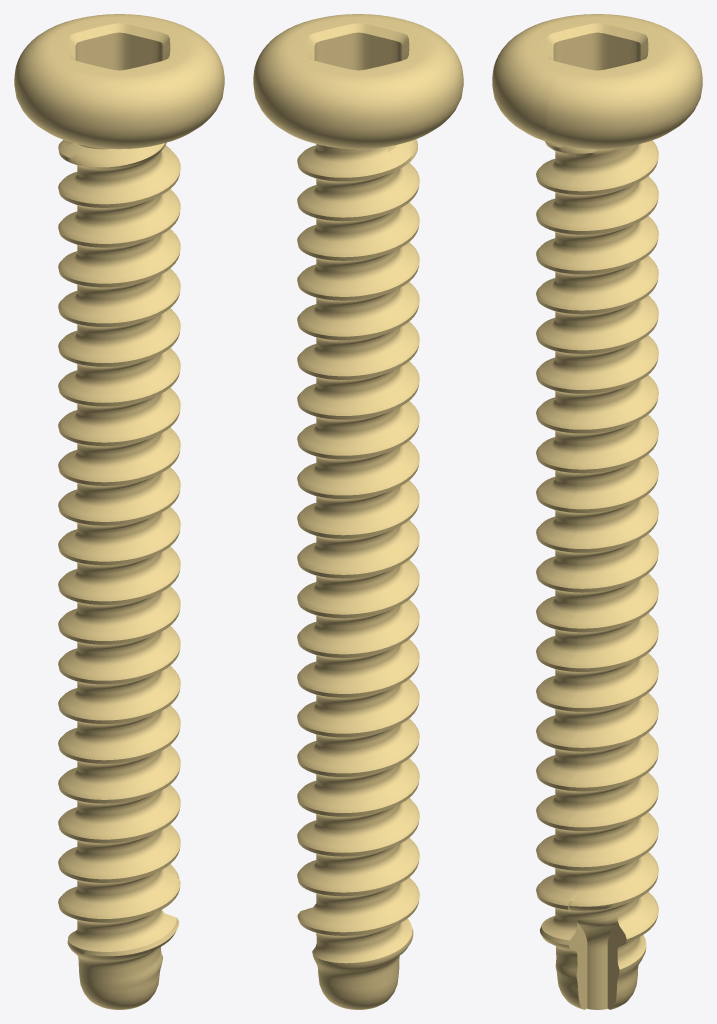
File: os37_cortical_3p5x30_lod0.glb
3 views of the same model, side by side, from view 1: azimuth 30°, elevation 25°; view 2: azimuth 150°, elevation 25°; view 3: azimuth 270°, elevation 25° (orthographic).
Visible parts, largest first — view 1: os37_cortical_3p5x30; view 2: os37_cortical_3p5x30; view 3: os37_cortical_3p5x30.
Part boxes in pixels (bbox=[...]): os37_cortical_3p5x30: bbox=[14, 14, 224, 1009]; os37_cortical_3p5x30: bbox=[253, 14, 463, 1009]; os37_cortical_3p5x30: bbox=[492, 14, 702, 1009].
Bounding box in the file's own units: 0.006 × 0.03 × 0.006.
